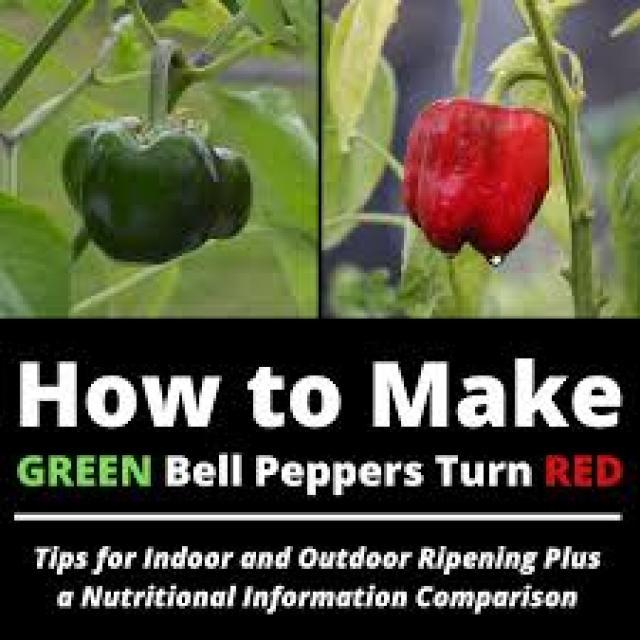Pepper: (60, 40, 254, 269), (404, 61, 555, 261)
